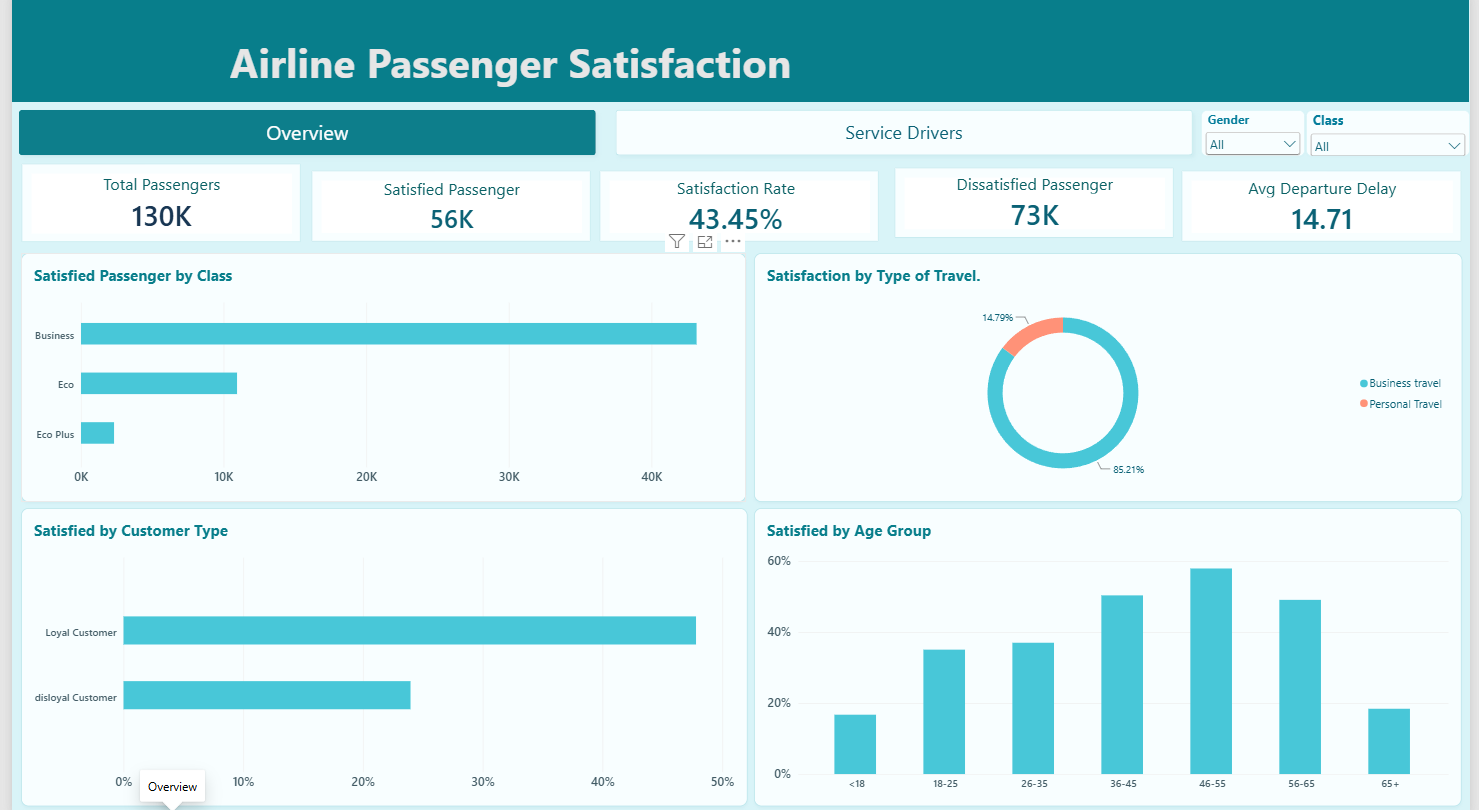

The dashboard page shown, as its layout file describes it:
{"tool":"powerbi","page":{"name":"Overview","canvas":[1920,1080],"ordinal":0},"visuals":[{"type":"shape","box":[0,0,1919,140.9],"z":0},{"type":"cardVisual","fields":{"Data":["data.Satisfaction Rate"]},"box":[773.7,230.3,369.9,95.6],"z":1000},{"type":"cardVisual","fields":{"Data":["data.Avg Departure Delay"]},"box":[1539.5,230.3,370,95],"z":2000},{"type":"clusteredBarChart","fields":{"Category":["data.Class"],"Y":["data.Satisfied Passenger"]},"box":[11.8,339.5,955.3,327.6],"z":3000},{"type":"clusteredBarChart","title":"Satisfied by Customer Type","fields":{"Category":["data.Customer Type"],"Y":["data.Satisfaction Rate"]},"box":[11.8,676.3,956.6,393.4],"z":4000},{"type":"clusteredColumnChart","title":"Satisfied by Age Group","fields":{"Category":["data.Age Group"],"Y":["data.Satisfaction Rate"]},"box":[977.6,676.3,931.6,393.4],"z":5000},{"type":"donutChart","title":"Satisfaction by Type of Travel.","fields":{"Series":["data.Type of Travel"],"Y":["data.Satisfaction Rate"]},"box":[977.6,339.5,932.9,327.6],"z":6000},{"type":"cardVisual","fields":{"Data":["data.Satisfied Passenger"]},"box":[393.4,230.3,369.9,95.6],"z":7000},{"type":"textbox","box":[287.7,50.9,1260.4,90],"z":8000},{"type":"cardVisual","fields":{"Data":["data.Neutral or Dissatisfied Passenger"]},"box":[1161.8,226.3,369.9,94.3],"z":9000},{"type":"slicer","fields":{"Values":["data.Class"]},"box":[1703.9,151.3,215.8,60.5],"z":10000},{"type":"pageNavigator","box":[0,142.1,1565.8,78.9],"z":11000},{"type":"cardVisual","fields":{"Data":["data.Total Passengers"]},"box":[11.8,221.1,369.7,105.3],"z":12000},{"type":"slicer","fields":{"Values":["data.Gender"]},"box":[1565.8,151.3,136.8,60.5],"z":13000}]}

Visuals, with their boxes in screenshot pixels (x1, y1, x2, y2), scaled from the page's 1920x1080 canvas onto the 1479x810 screenshot:
shape: l=0, t=0, r=1478, b=106
cardVisual - data.Satisfaction Rate: l=596, t=173, r=881, b=244
cardVisual - data.Avg Departure Delay: l=1186, t=173, r=1471, b=244
clusteredBarChart - data.Class x data.Satisfied Passenger: l=9, t=255, r=745, b=500
"Satisfied by Customer Type" clusteredBarChart: l=9, t=507, r=746, b=802
"Satisfied by Age Group" clusteredColumnChart: l=753, t=507, r=1471, b=802
"Satisfaction by Type of Travel." donutChart: l=753, t=255, r=1472, b=500
cardVisual - data.Satisfied Passenger: l=303, t=173, r=588, b=244
textbox: l=222, t=38, r=1193, b=106
cardVisual - data.Neutral or Dissatisfied Passenger: l=895, t=170, r=1180, b=240
slicer - data.Class: l=1313, t=113, r=1478, b=159
pageNavigator: l=0, t=107, r=1206, b=166
cardVisual - data.Total Passengers: l=9, t=166, r=294, b=245
slicer - data.Gender: l=1206, t=113, r=1312, b=159
